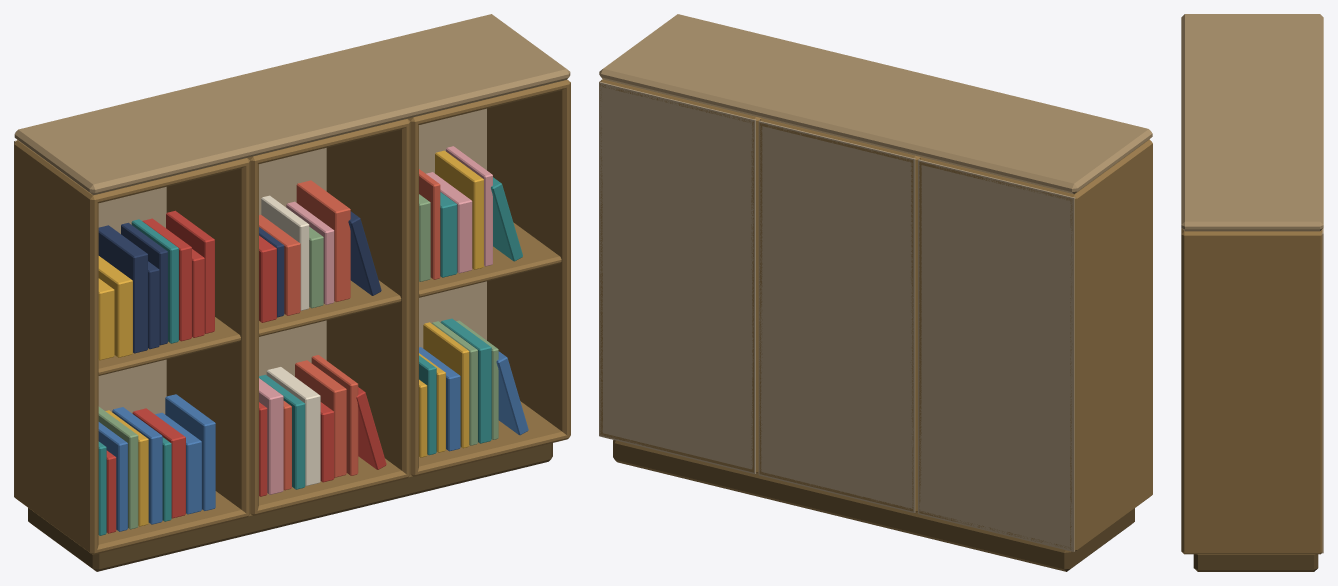
File: wide_bookcase.glb
3 views of the same model, side by side, from view 1: azimuth 30°, elevation 25°; view 2: azimuth 150°, elevation 25°; view 3: azimuth 270°, elevation 25° (orthographic). The views are drawn at different scales.
Parts seen in each view (by area): view 1: wide_bookcase_Body; view 2: wide_bookcase_Body; view 3: wide_bookcase_Body.
Boxes of the visible parts, x1,y1,x2,y2 form: wide_bookcase_Body: (14, 14, 570, 571); wide_bookcase_Body: (599, 14, 1152, 571); wide_bookcase_Body: (1181, 14, 1323, 571).
Bounding box in the file's own units: 1.4 × 1.1 × 0.4.
